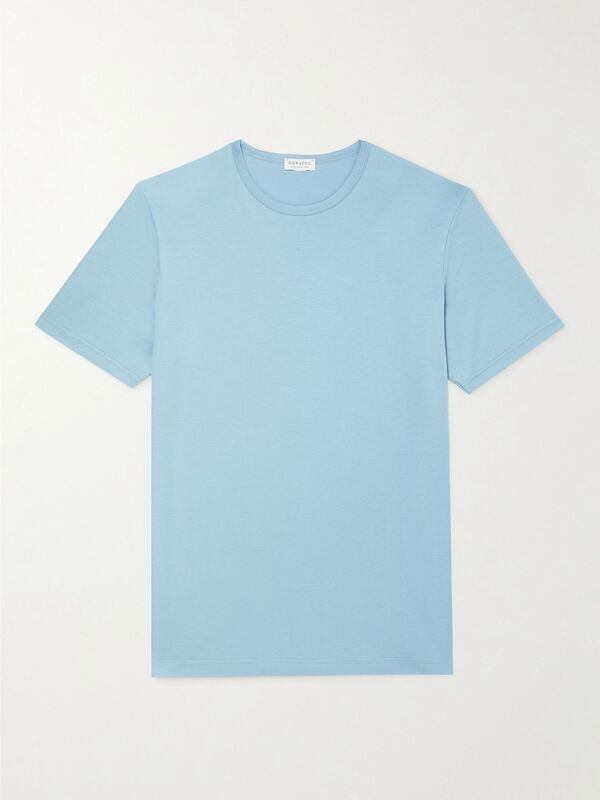tshirt: (31, 136, 569, 679)
